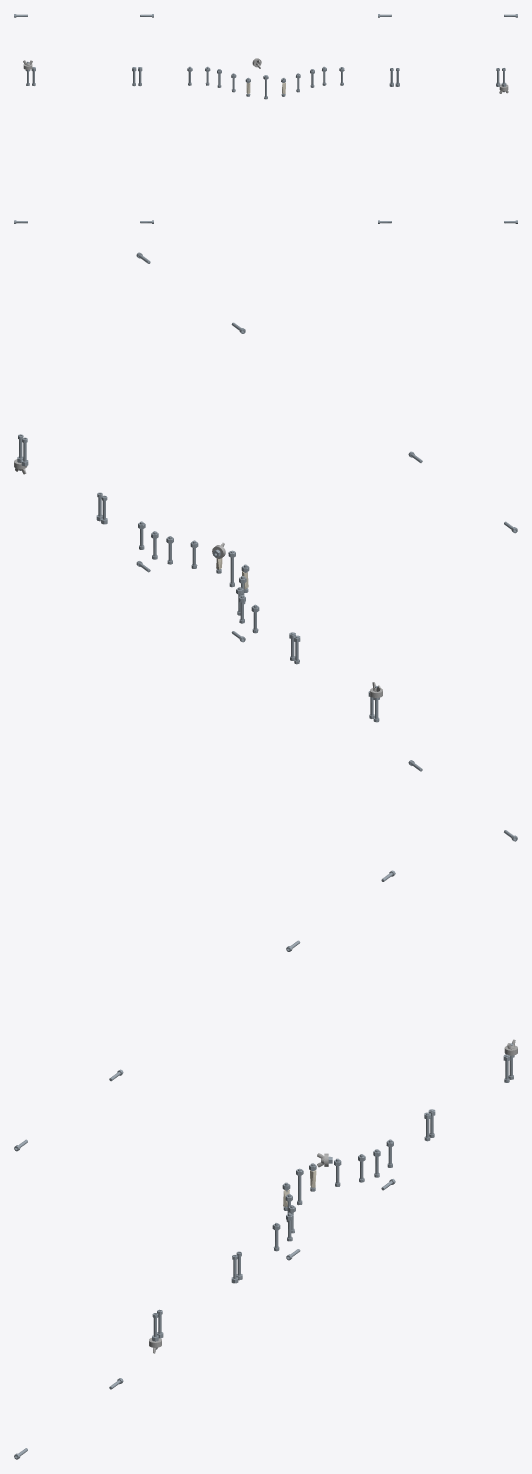
Rendered from other-red-hive.obj.
3 views of the same model, one above another, from view 1: azimuth 30°, elevation 25°; view 2: azimuth 150°, elevation 25°; view 3: azimuth 270°, elevation 25° (orthographic). The views are drawn at different scales.
Parts seen in each view (by area): view 1: other-red-hive-9AA5AF; view 2: other-red-hive-9AA5AF; view 3: other-red-hive-9AA5AF.
Part boxes in pixels (x1,y1,x2,y2): other-red-hive-9AA5AF: (14, 14, 517, 223); other-red-hive-9AA5AF: (17, 252, 517, 841); other-red-hive-9AA5AF: (14, 870, 514, 1459).
Bounding box in the file's own units: 40.74 × 19.64 × 28.61.
